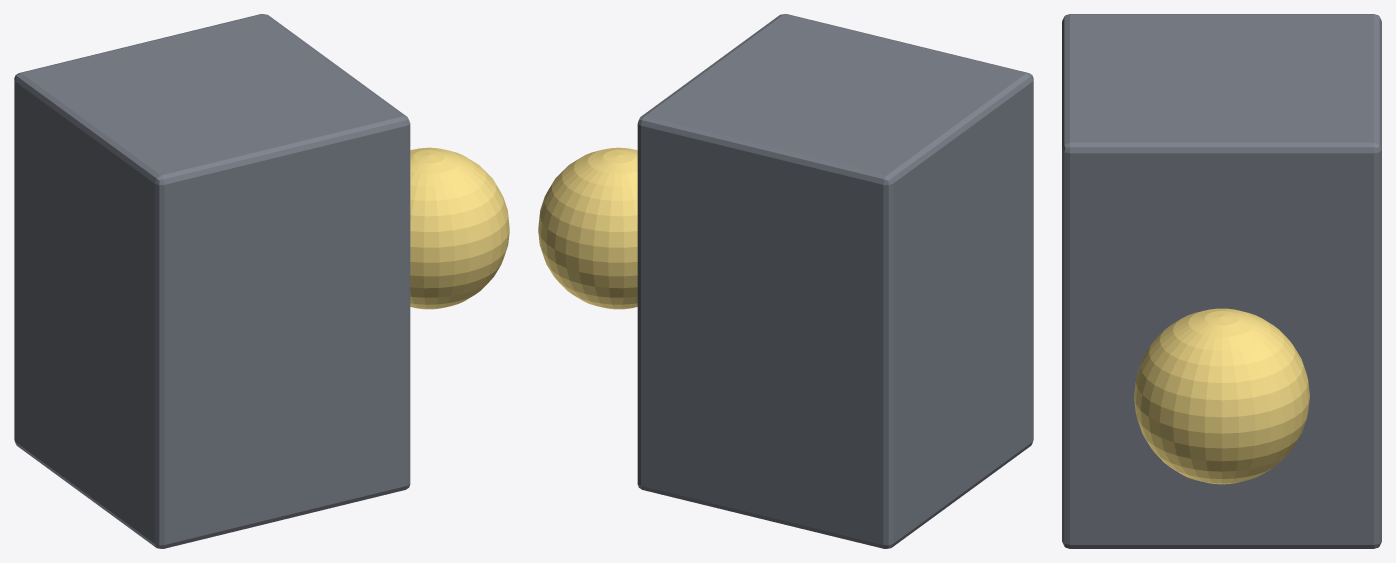
File: t5_full.glb
3 views of the same model, side by side, from view 1: azimuth 30°, elevation 25°; view 2: azimuth 150°, elevation 25°; view 3: azimuth 270°, elevation 25° (orthographic). The views are drawn at different scales.
Parts seen in each view (by area): view 1: Block, Orb; view 2: Block, Orb; view 3: Block, Orb.
Part boxes in pixels (x1,y1,x2,y2): Block: (14, 14, 410, 548); Orb: (410, 147, 509, 309); Block: (637, 14, 1033, 548); Orb: (538, 147, 637, 309); Block: (1062, 14, 1381, 548); Orb: (1134, 308, 1309, 484).
Bounding box in the file's own units: 3.25 × 2.8 × 2.
